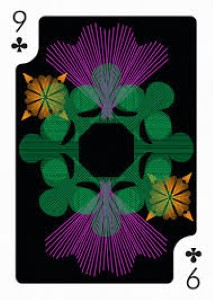NineOfClubs: (6, 8, 203, 289)
